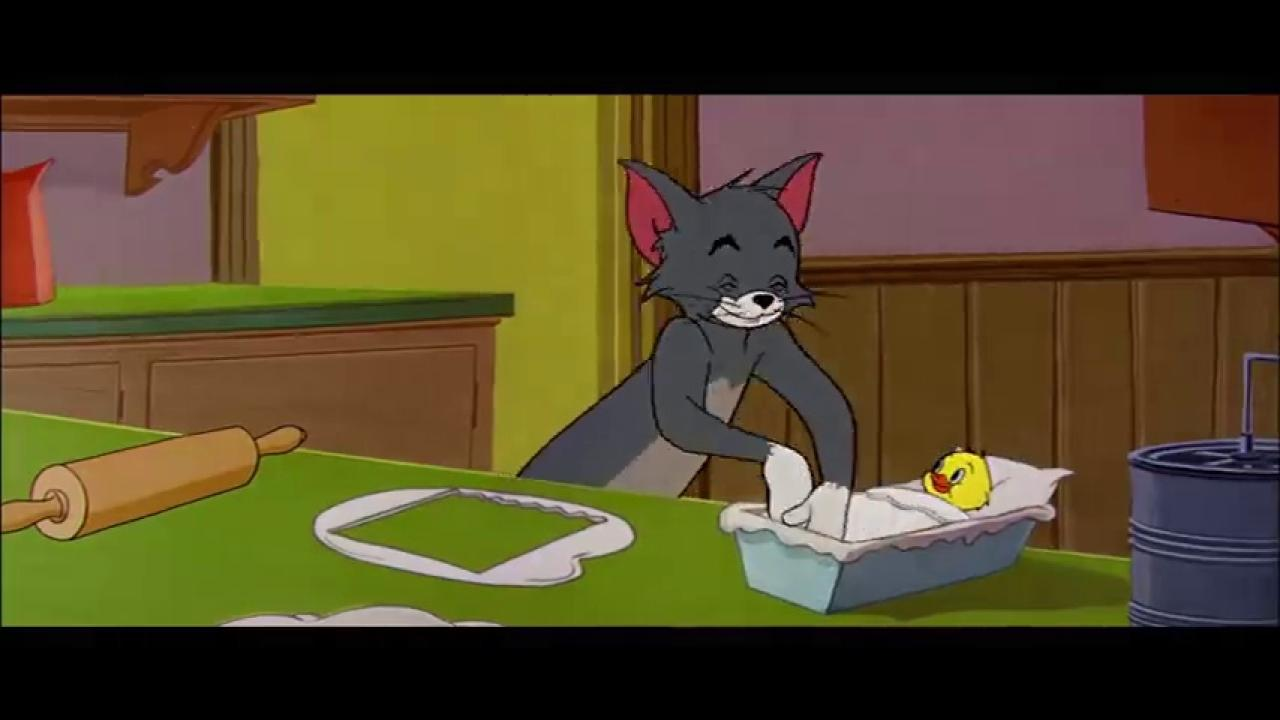Tom: (518, 149, 858, 541)
